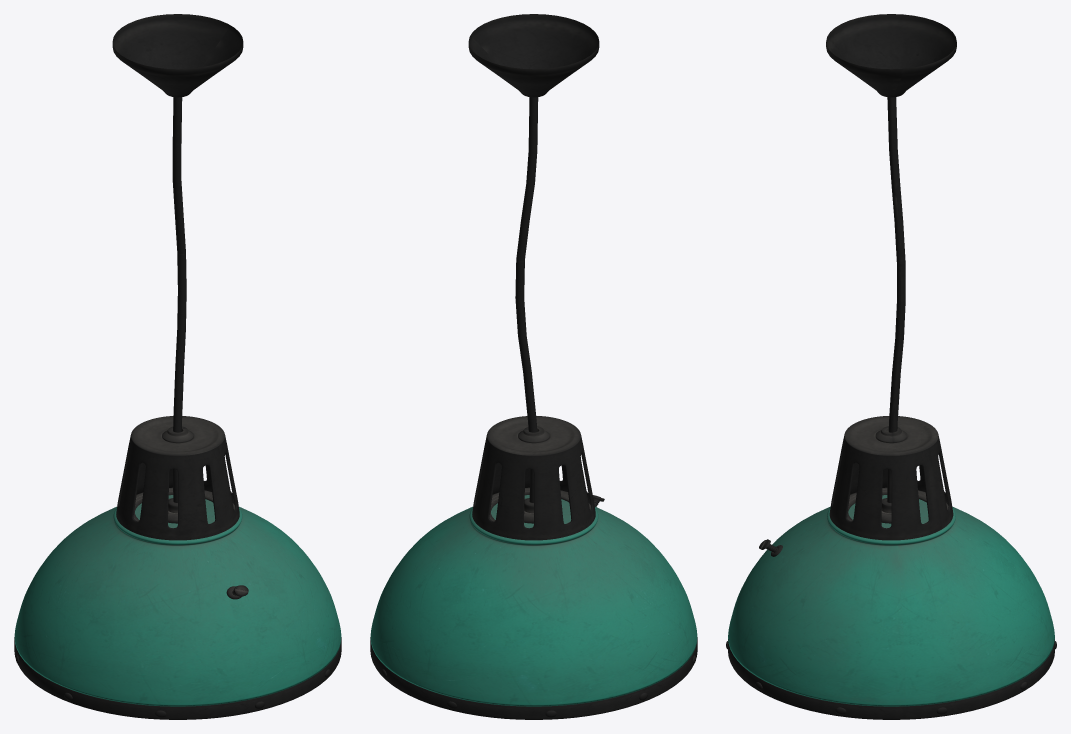
The model's file is retro_light.glb.
3 views of the same model, side by side, from view 1: azimuth 30°, elevation 25°; view 2: azimuth 150°, elevation 25°; view 3: azimuth 270°, elevation 25° (orthographic).
Parts seen in each view (by area): view 1: Clean_retro_light; view 2: Clean_retro_light; view 3: Clean_retro_light.
Boxes of the visible parts, x1,y1,x2,y2 form: Clean_retro_light: (14,14,341,719); Clean_retro_light: (370,14,697,719); Clean_retro_light: (726,14,1056,719).
Bounding box in the file's own units: 71.34 × 147 × 72.13.
1 material, 1 textured.
